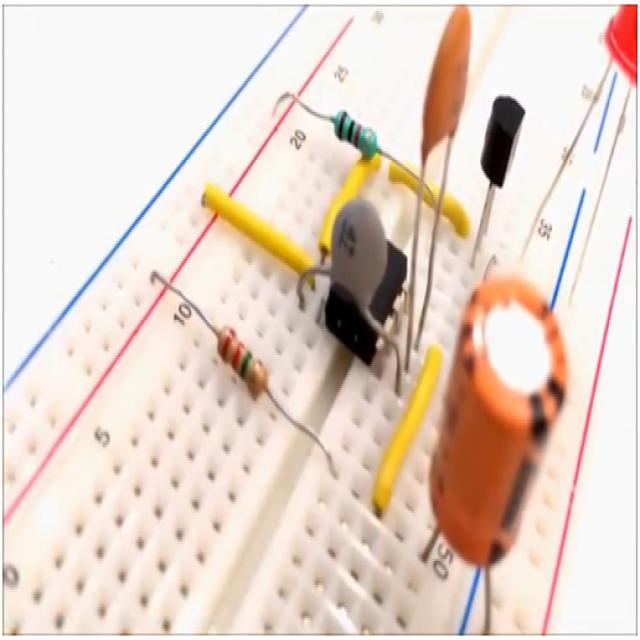capacitor: (214, 319, 270, 398), (332, 110, 378, 158)
